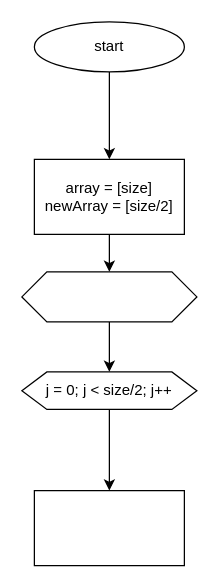
This 219x588 diagram has some shape labels left out. The box of each missing label's shape, as (x1, y1, x2, y2) in pixels:
i = 0; i < size; i++: (21, 271, 197, 322)
newArray[j] = array[i]: (33, 489, 184, 566)
